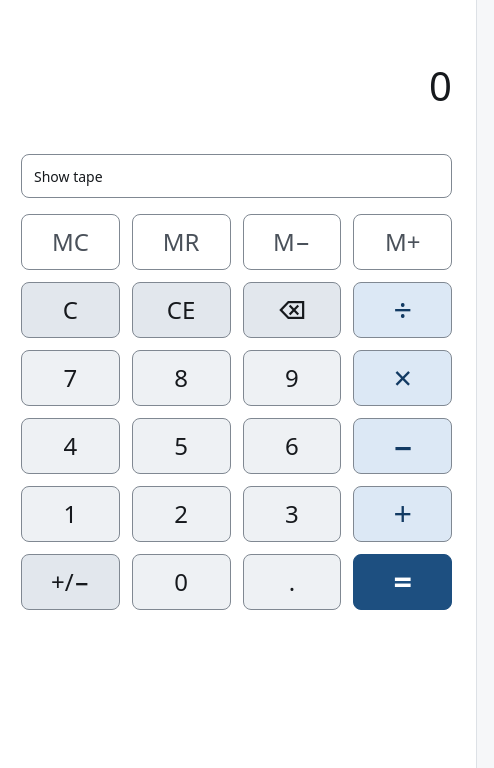
Test case: S-12 See the working on a tape › AC-12.10, AC-12.11: at 900px and below the tape is behind Show tape, closed, then between readout and keypad
Click the button "Show tape".
click(68, 176)  # box [21,154,452,198]
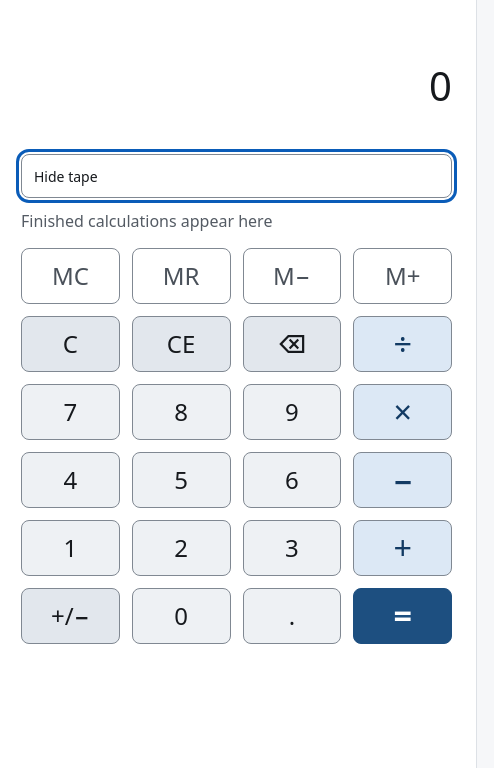
Now the button "Hide tape" is expanded, box [21,154,452,198]
